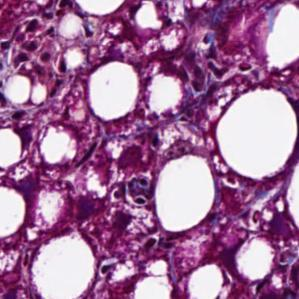inflammation: (152, 42, 224, 99), (12, 19, 59, 72)
